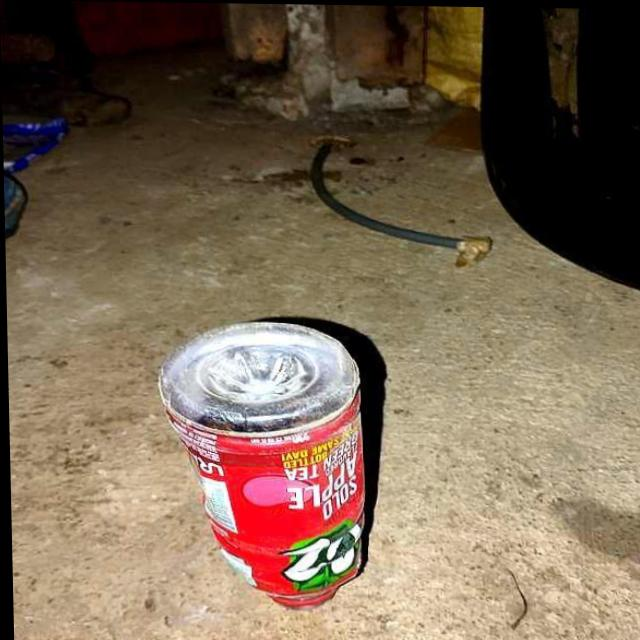Non-biodegradable: (157, 318, 368, 606)
